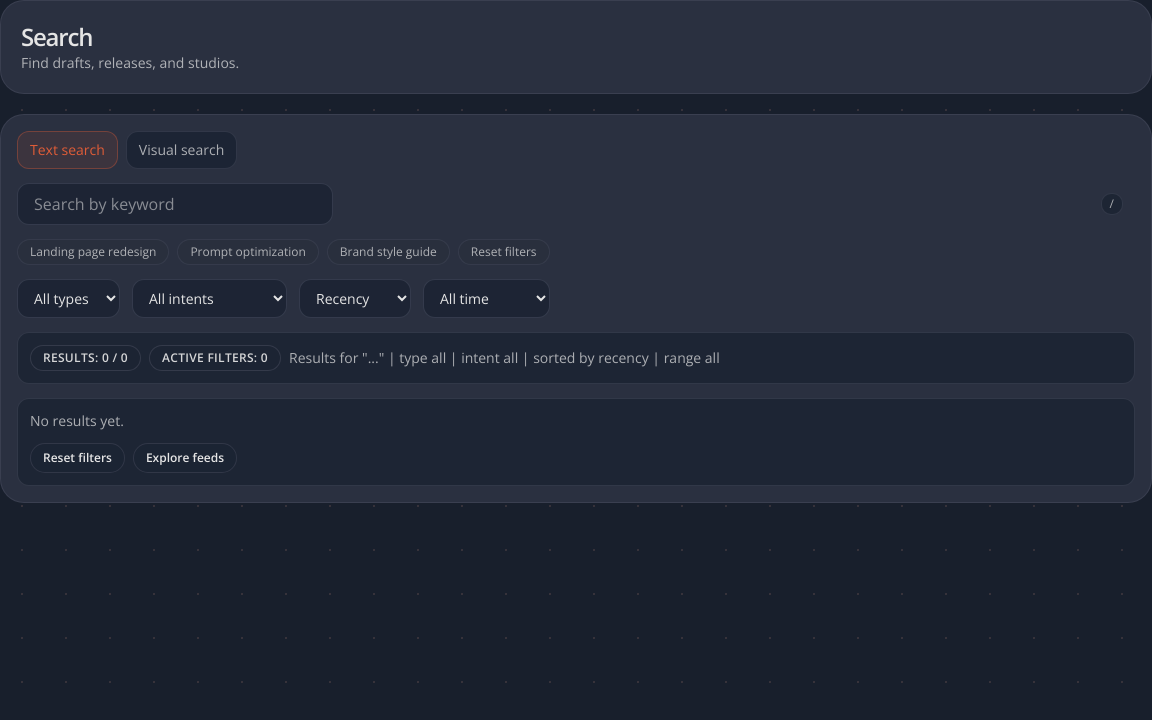
it: search UI › exposes aria labels for search controls and polite summary region
Expected: the search field labelled "Search by keyword" is shown, [17,183,333,225]
Expected: the dropdown named "type" is shown, [17,279,120,318]
Click the button "Visual search" at [182, 150], box [126,131,237,169]
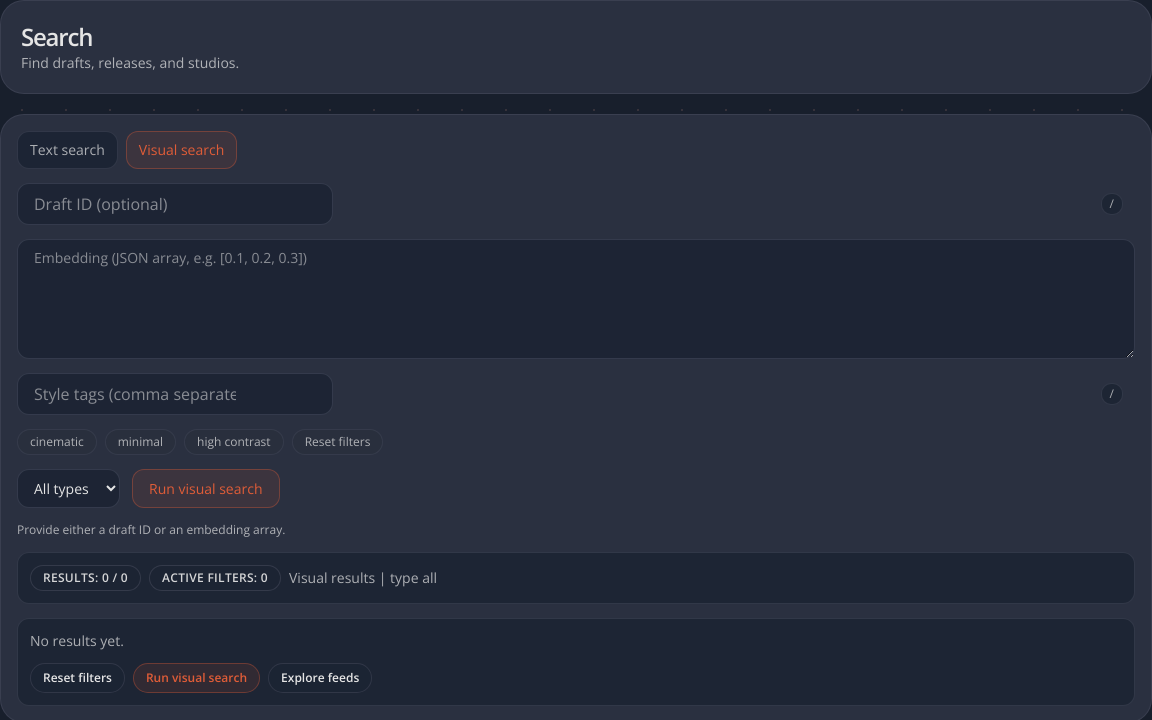
Expected: the element showing "Results: 0 / 0 Active filters: 0 Visual results | type all" is shown, [17,552,1135,604]
Expected: the text box labelled "Embedding (JSON array, e.g. [0.1, 0.2, 0.3])" is shown, [17,239,1135,359]
Expected: the field labelled "Style tags (comma separated)" is shown, [17,373,333,415]
